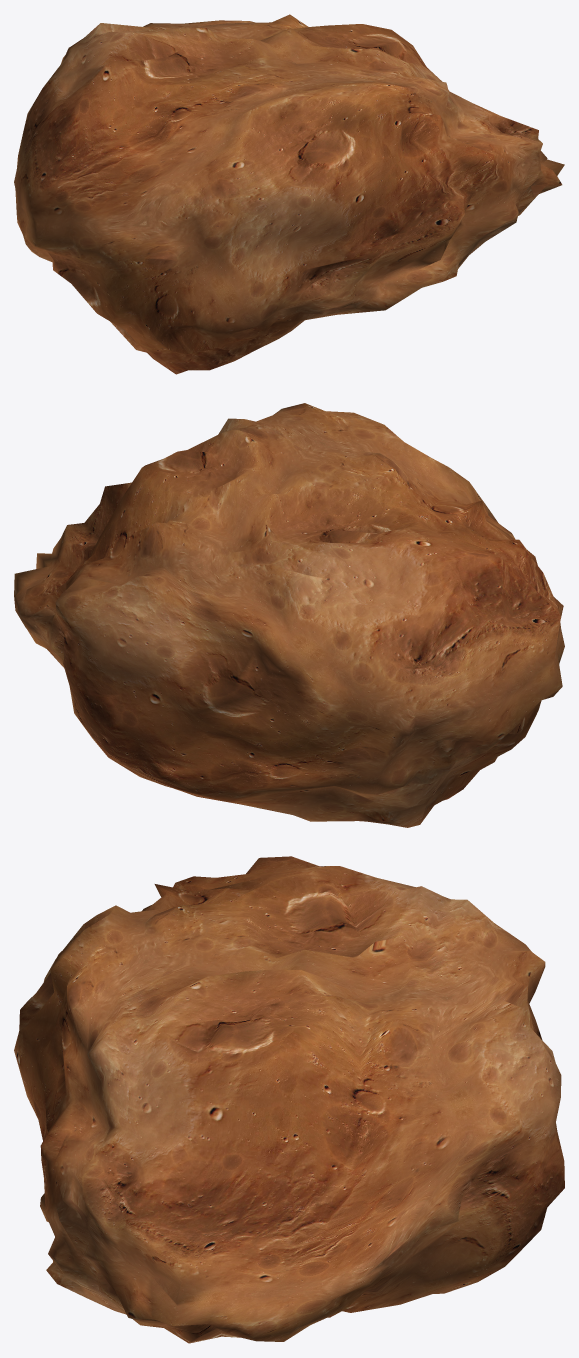
Rendered from Asteroid_04_L0.FBX.
The picture shows the model from 3 angles, top to bottom: view 1: azimuth 30°, elevation 25°; view 2: azimuth 150°, elevation 25°; view 3: azimuth 270°, elevation 25°; orthographic projection. The views are drawn at different scales.
Parts seen in each view (by area): view 1: Asteroid; view 2: Asteroid; view 3: Asteroid.
Part boxes in pixels (x1=…): Asteroid: x1=14, y1=14, x2=564, y2=374; Asteroid: x1=14, y1=403, x2=564, y2=827; Asteroid: x1=14, y1=856, x2=564, y2=1343.
Bounding box in the file's own units: 3.06 × 1.7 × 2.18.
